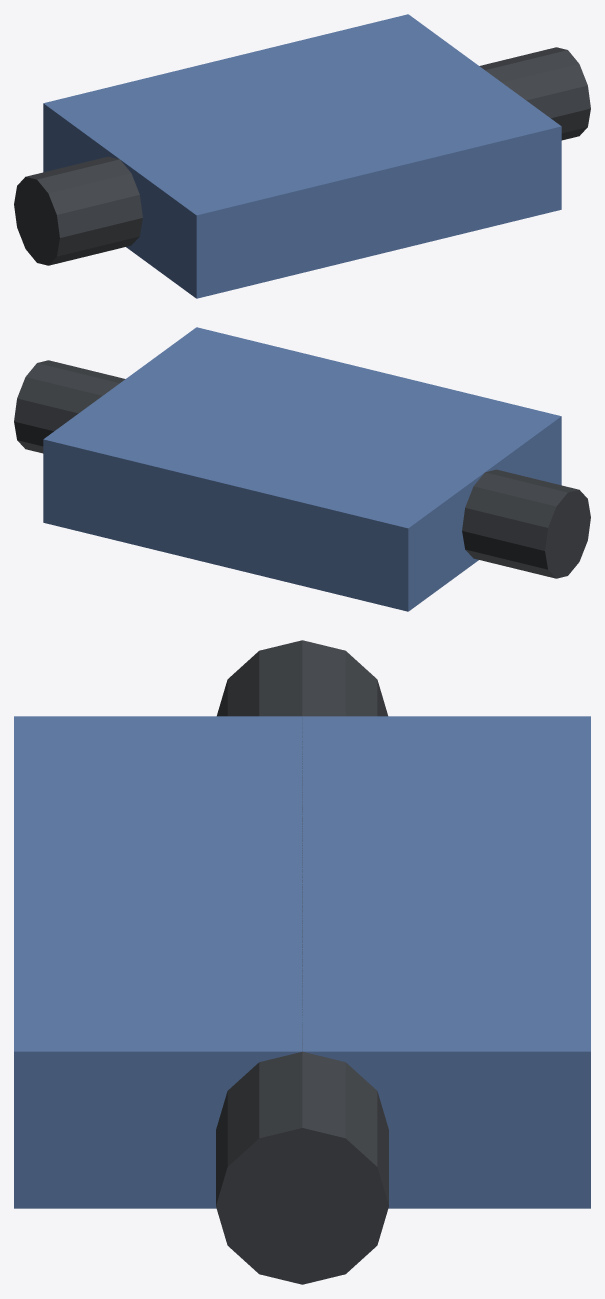
The picture shows the model from 3 angles, top to bottom: view 1: azimuth 30°, elevation 25°; view 2: azimuth 150°, elevation 25°; view 3: azimuth 270°, elevation 25°; orthographic projection. The views are drawn at different scales.
Parts seen in each view (by area): view 1: geometry_0; view 2: geometry_0; view 3: geometry_0.
Part boxes in pixels (x1,y1,x2,y2): geometry_0: [14, 14, 590, 298]; geometry_0: [14, 327, 590, 611]; geometry_0: [14, 640, 590, 1284].
Size of the model in its own units: 0.08 by 0.012 by 0.04.
